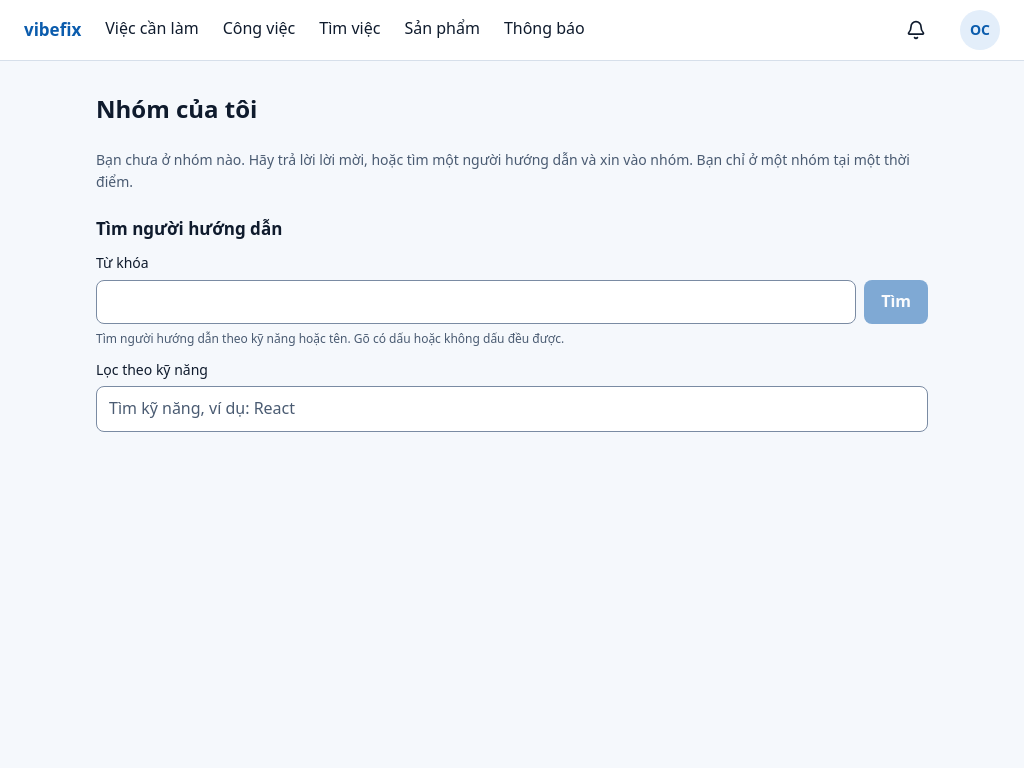
Test: STU-6, the Student's Team (FR-6, AD-36) › searches Mentors and opens PUB-4 in the Sheet (Story 21.3)
In the search field labelled "Từ khóa": (476, 302) [96, 280, 856, 324], type "supabase"
Then press Enter
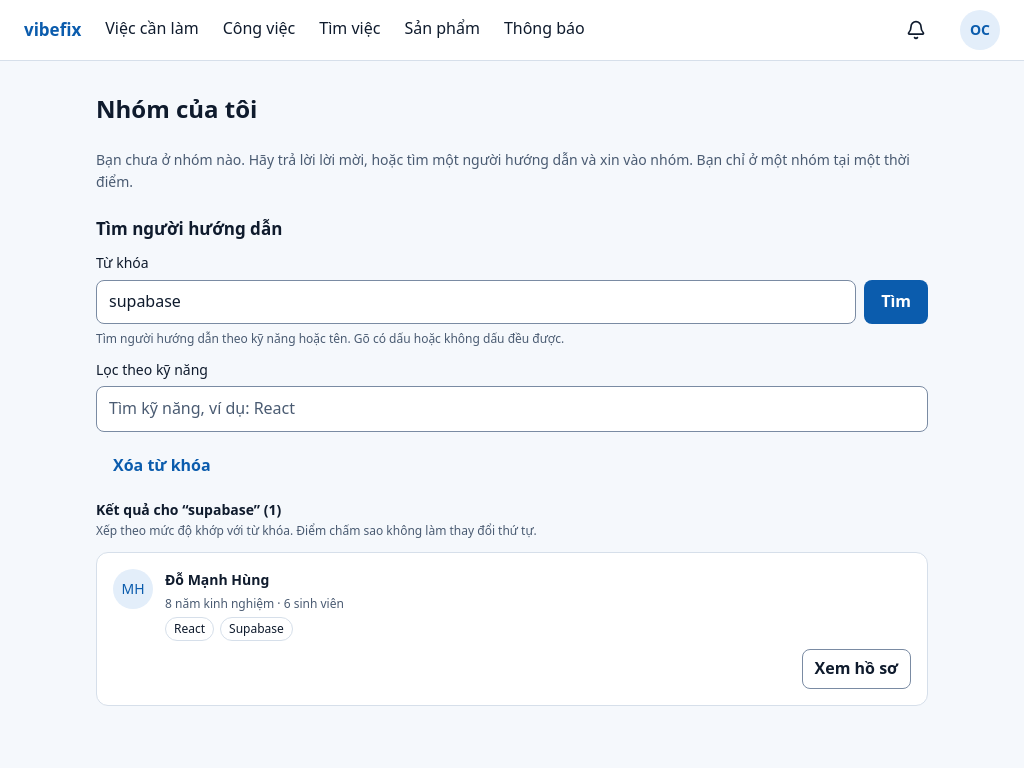
Now the text "Kết quả cho “supabase” (1)" is shown, box [96, 500, 281, 519]
Click the button with aria-label "Xem hồ sơ của Đỗ Mạnh Hùng": (856, 669) [802, 649, 911, 689]
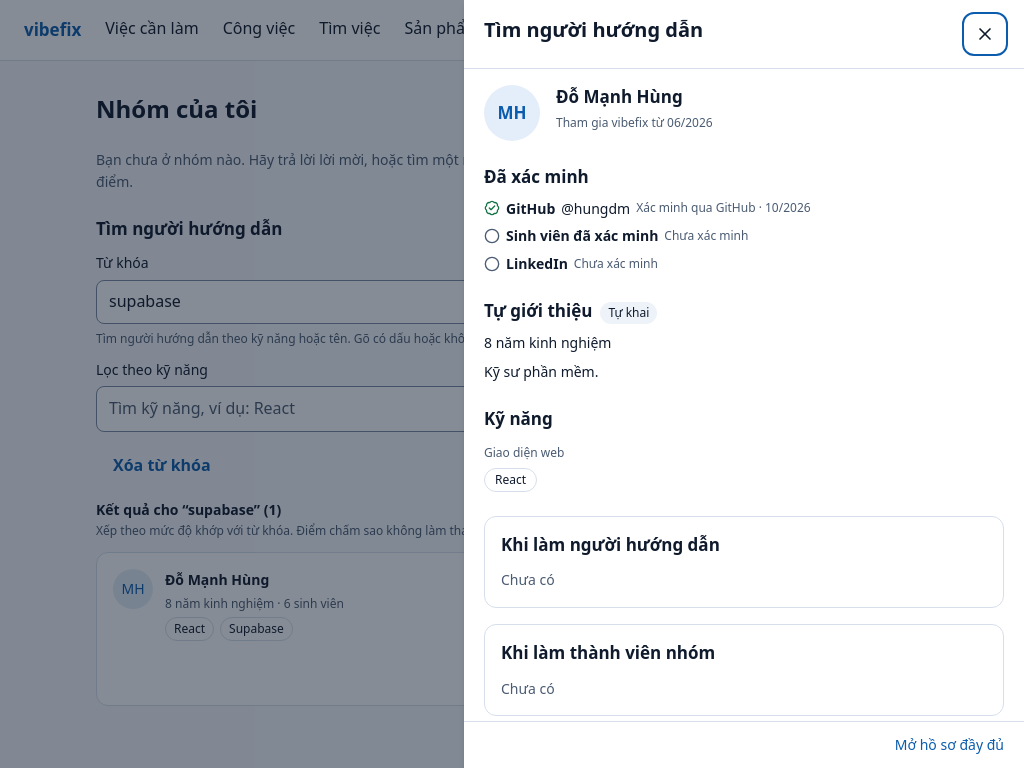
Now the text "Giao diện web" is shown, box [484, 444, 564, 461]
Now the text "Kỹ sư phần mềm." is shown, box [484, 362, 598, 381]
